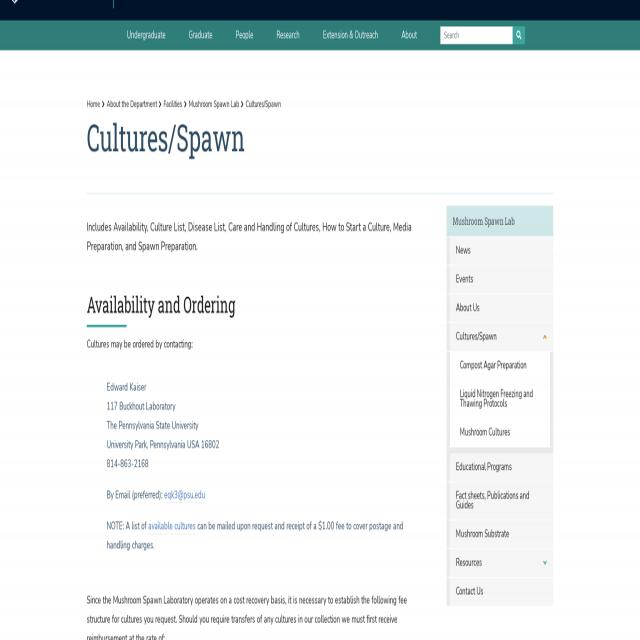button: (447, 482, 553, 520), (457, 380, 543, 418), (447, 206, 553, 236), (447, 237, 553, 265), (447, 264, 553, 292), (447, 294, 553, 322), (447, 323, 553, 351), (447, 454, 553, 482), (447, 520, 553, 548), (447, 549, 553, 577), (447, 578, 553, 606), (457, 352, 543, 380), (457, 419, 543, 447), (311, 20, 390, 50), (115, 20, 177, 50), (176, 20, 224, 50), (265, 20, 311, 50), (223, 20, 264, 50), (389, 20, 428, 50), (513, 26, 525, 44)
field: (440, 26, 512, 44)
